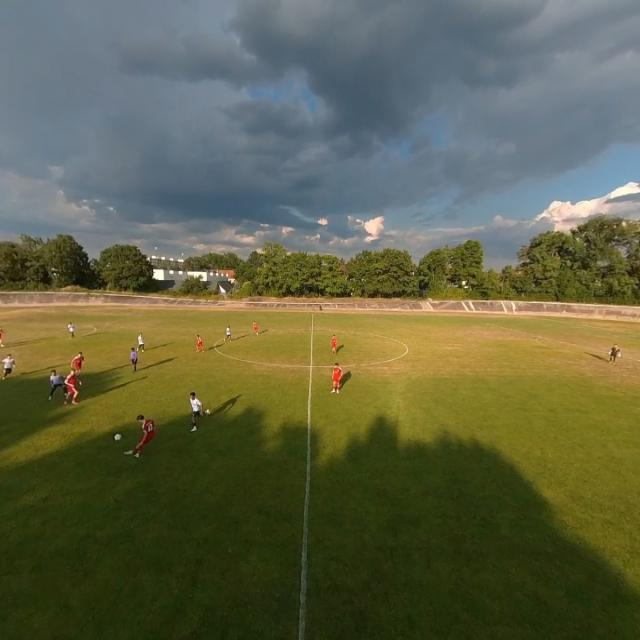ball: (114, 434, 122, 441)
